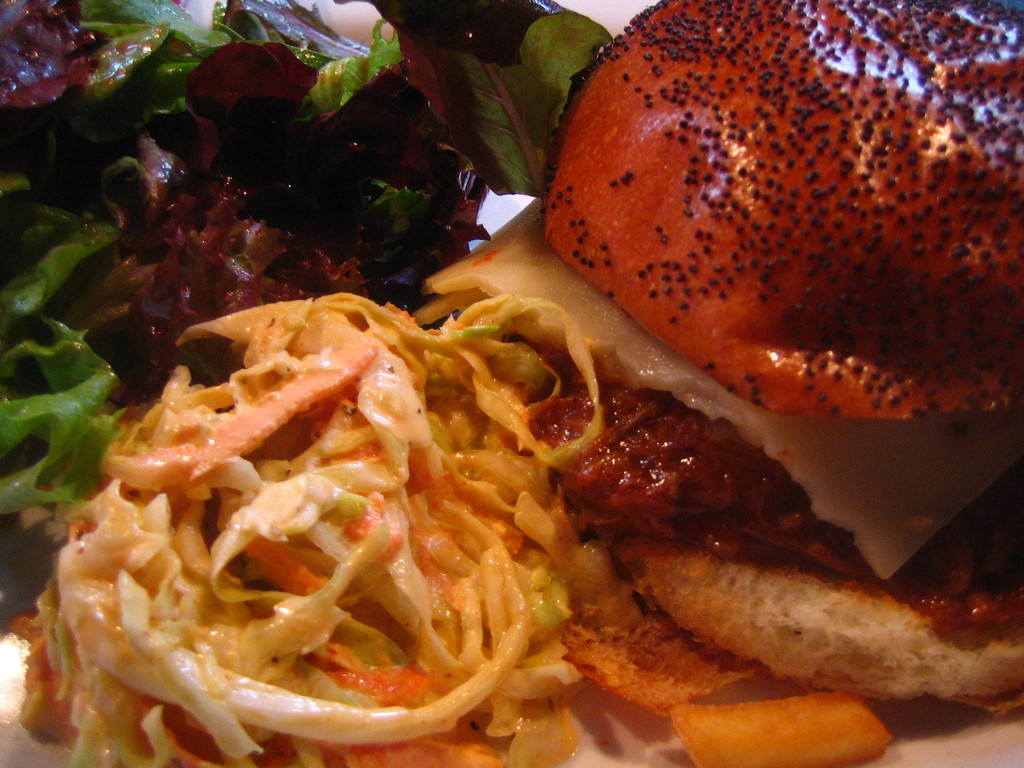Hamburger: (425, 0, 1023, 718)
